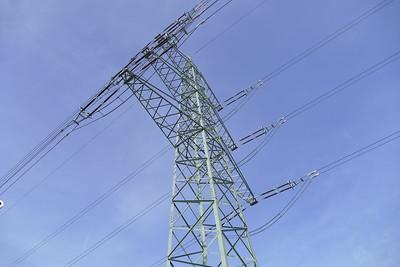power_tower: (105, 37, 286, 267)
